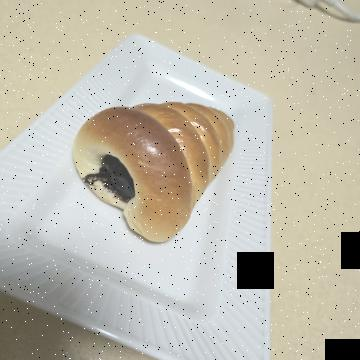cream horn: (85, 112, 263, 296)
